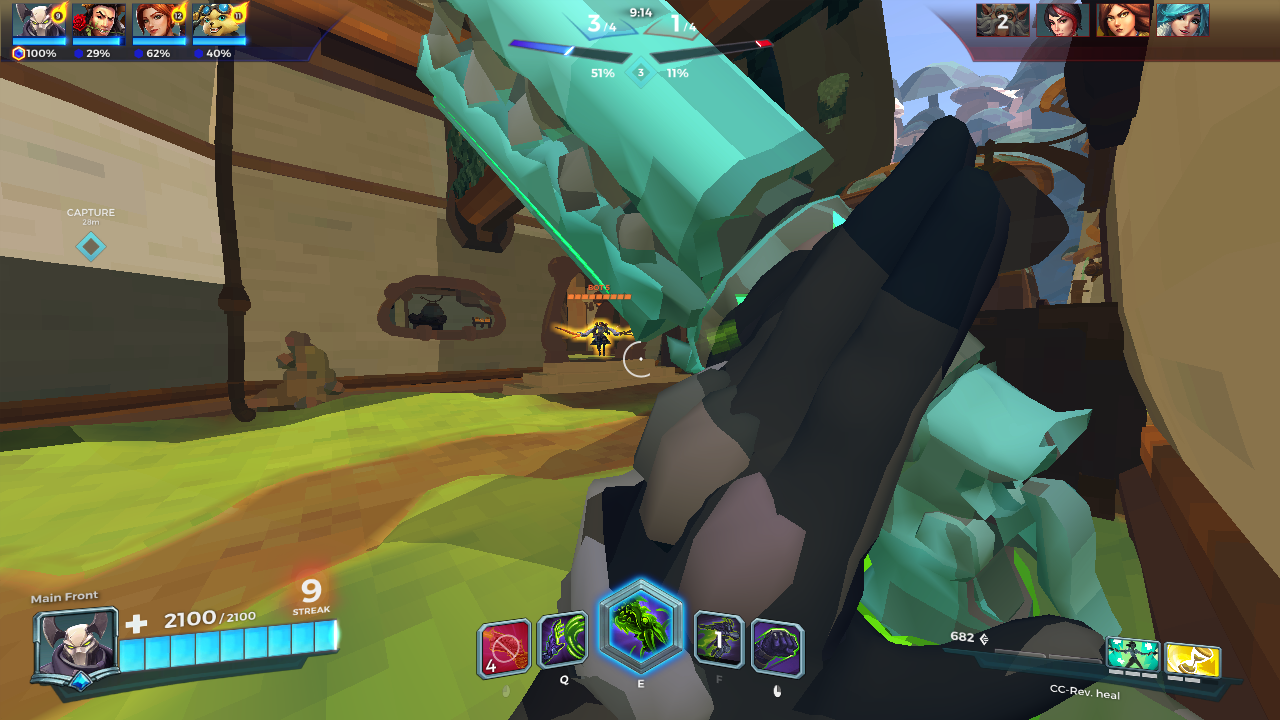model: (556, 315, 630, 356)
